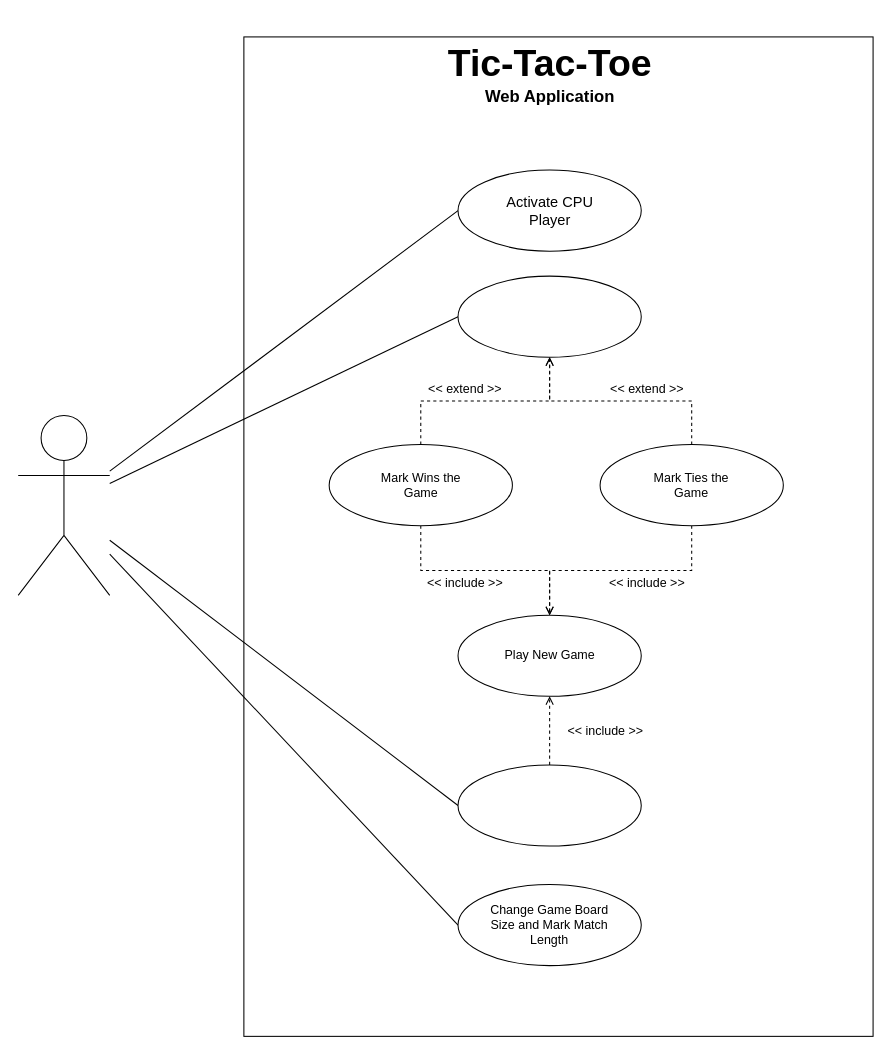
Some shapes in this 891 by 1055 pixel diagram are drawn without their labels. The shapes that lost their labels are listed below. From the top down, each one's centre as x and y in pixels, then its label:
the point at 549,316: Choose Square to Mark
the point at 63,504: Human Player
the point at 549,805: Player Doesn't Choose a Square to Mark
